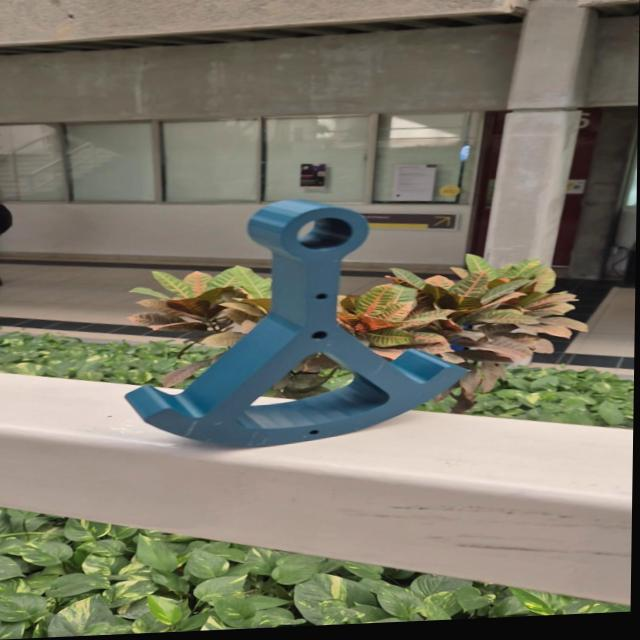haptic: (122, 190, 471, 455)
